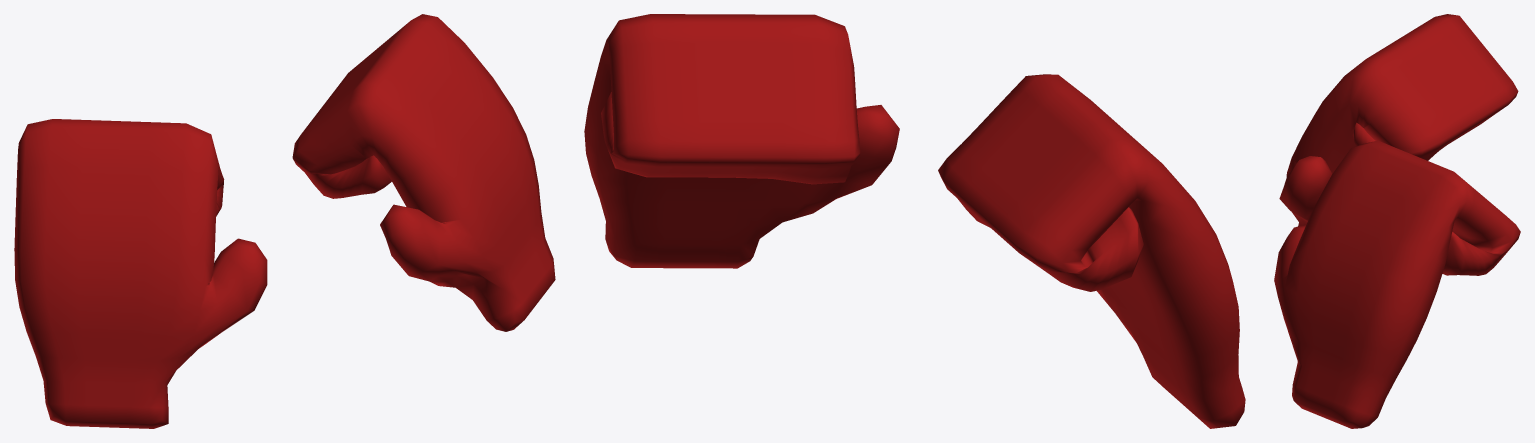
File: glovesPunchRight.fbx
The picture shows the model from 3 angles, left to right: view 1: azimuth 30°, elevation 25°; view 2: azimuth 150°, elevation 25°; view 3: azimuth 270°, elevation 25°; orthographic projection. The views are drawn at different scales.
Parts seen in each view (by area): view 1: gloveLeft, gloveRight; view 2: gloveRight, gloveLeft; view 3: gloveRight, gloveLeft.
Part boxes in pixels (left/top/right/bottom): gloveLeft: left=14, top=119, right=267, bottom=428; gloveRight: left=292, top=14, right=555, bottom=331; gloveRight: left=584, top=14, right=899, bottom=268; gloveLeft: left=938, top=74, right=1245, bottom=428; gloveRight: left=1274, top=140, right=1520, bottom=428; gloveLeft: left=1279, top=14, right=1518, bottom=226.
Size of the model in its own units: 137 by 67.54 by 62.62.
